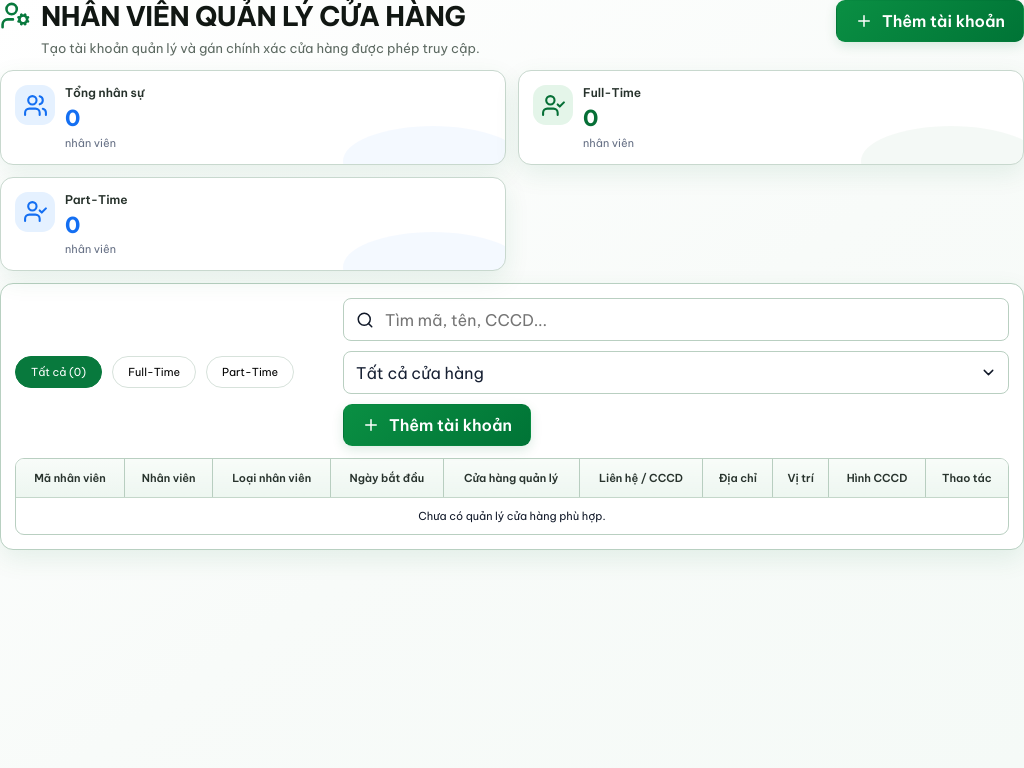
role management permissions and form › shows Admin the store-manager assignment and dual-role selection form
What coordinates should you click on to do the following:
click the button "Thêm tài khoản" in the row of "NHÂN VIÊN QUẢN LÝ CỬA HÀNG"
I would click on:
 (930, 21)
Its box is [836,0,1023,42].
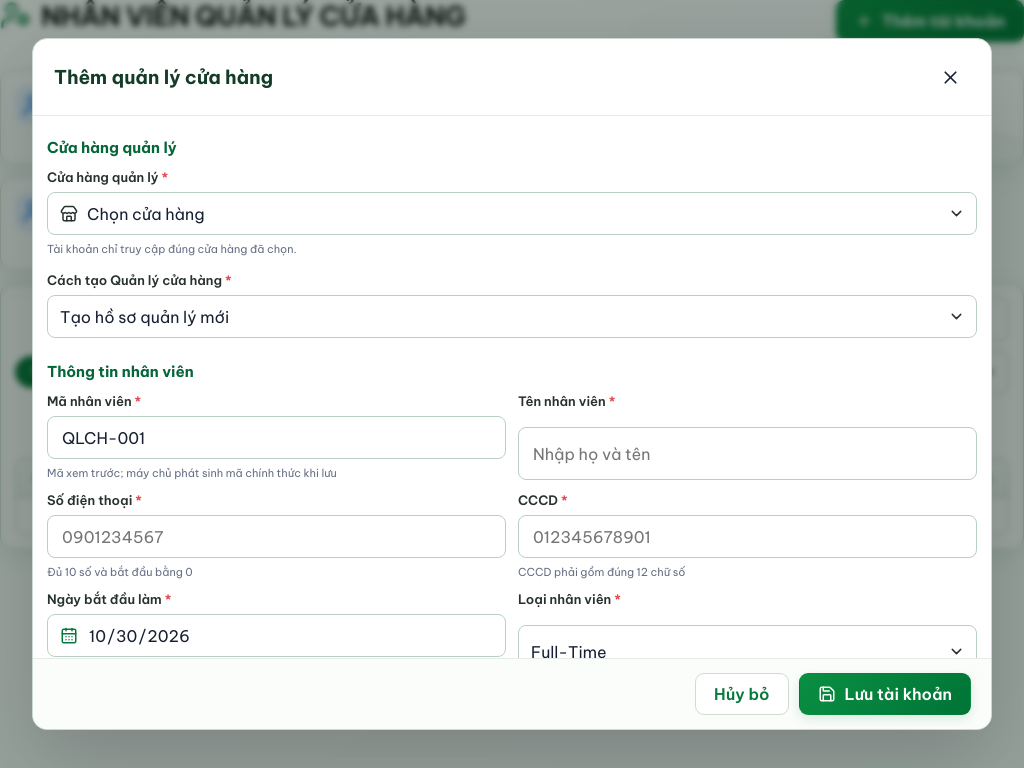
Check: the dropdown labelled "Cách tạo Quản lý cửa hàng *" is shown, box [60,296,942,337]
